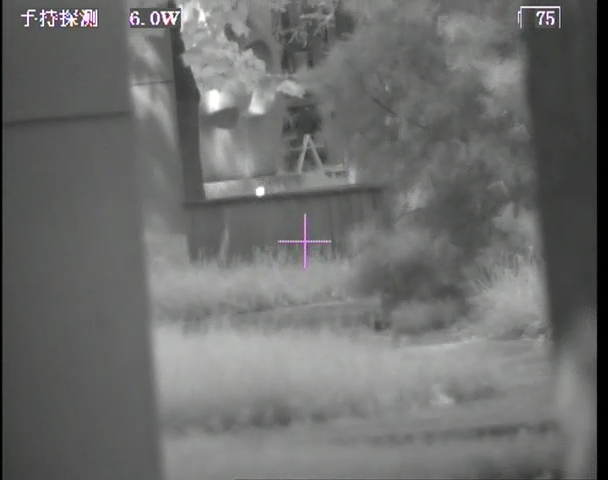my: (254, 186, 267, 198)
